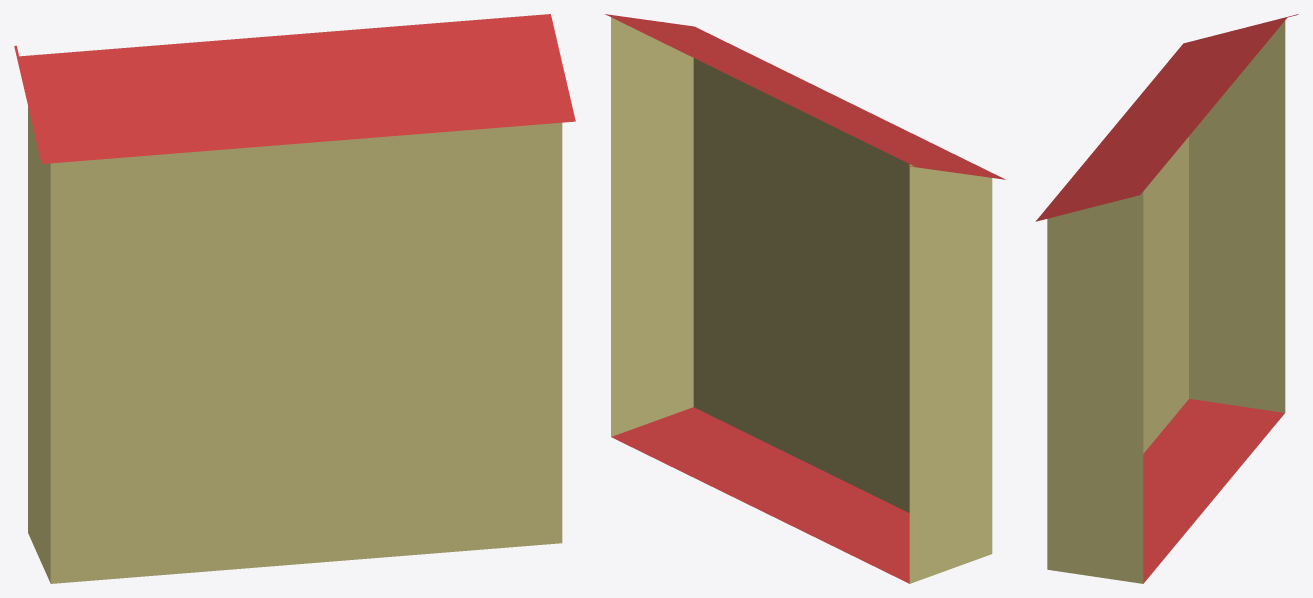
3 renders of one model, left to right at view 1: azimuth 30°, elevation 25°; view 2: azimuth 150°, elevation 25°; view 3: azimuth 270°, elevation 25°, orthographic. The views are drawn at different scales.
Size of the model in its own units: 12.16 by 6.98 by 11.6.
